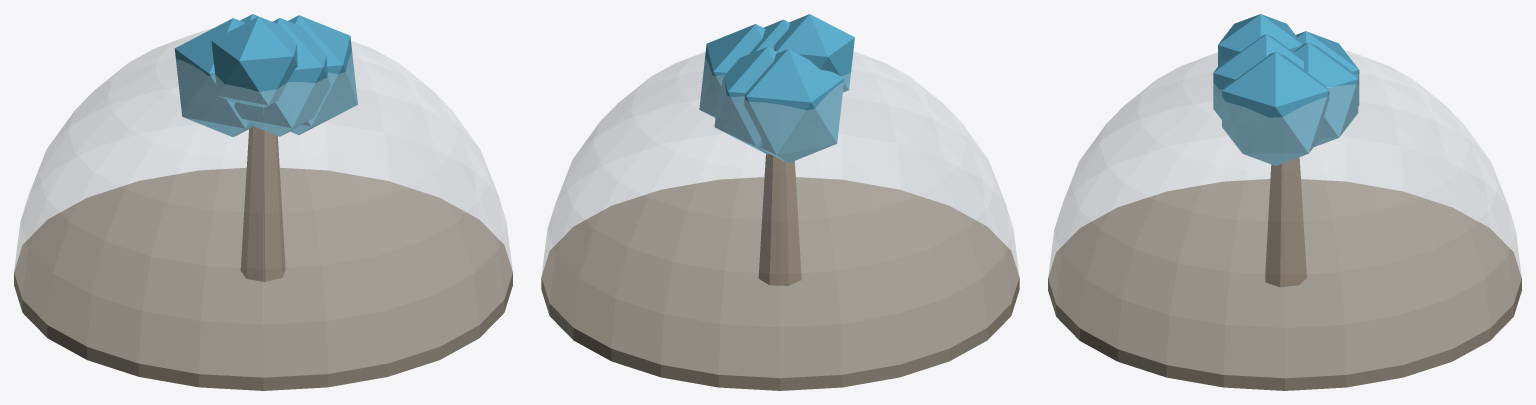
File: aperion.glb
3 views of the same model, side by side, from view 1: azimuth 30°, elevation 25°; view 2: azimuth 150°, elevation 25°; view 3: azimuth 270°, elevation 25° (orthographic). The views are drawn at different scales.
Parts seen in each view (by area): view 1: Dome_Glass, Dome_Base, Tree_Foliage, Tree_Trunk; view 2: Dome_Glass, Dome_Base, Tree_Foliage, Tree_Trunk; view 3: Dome_Glass, Dome_Base, Tree_Foliage, Tree_Trunk.
Boxes of the visible parts, x1,y1,x2,y2 form: Dome_Glass: (14,28,512,377); Dome_Base: (14,167,512,390); Tree_Foliage: (174,14,357,137); Tree_Trunk: (240,126,285,281); Dome_Glass: (542,51,1018,377); Dome_Base: (541,177,1019,390); Tree_Foliage: (699,14,854,163); Tree_Trunk: (758,154,801,285); Dome_Glass: (1048,50,1521,377); Dome_Base: (1048,179,1521,390); Tree_Foliage: (1213,14,1359,165); Tree_Trunk: (1265,157,1306,287).
Bounding box in the file's own units: 2.72 × 1.7 × 2.72.
